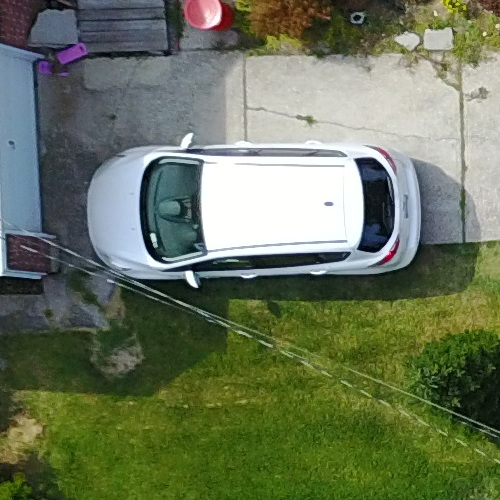container: (347, 5, 374, 34)
toy: (40, 35, 94, 82)
trash bin: (177, 1, 236, 44)
